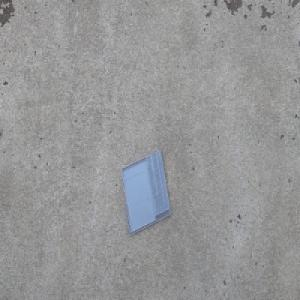PlasticPart: (119, 148, 171, 236)
